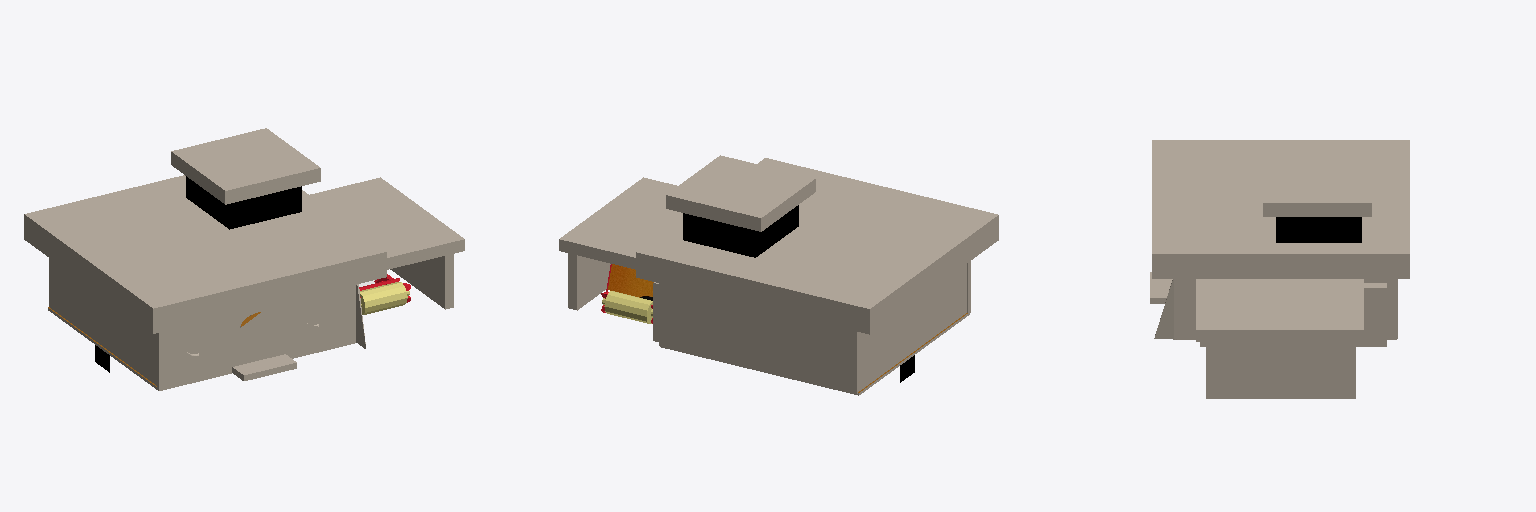
The picture shows the model from 3 angles: view 1: azimuth 30°, elevation 25°; view 2: azimuth 150°, elevation 25°; view 3: azimuth 270°, elevation 25°; orthographic projection.
Parts seen in each view (by area): view 1: Flower_Pot:Mesh1; view 2: Flower_Pot:Mesh1; view 3: Flower_Pot:Mesh1.
Boxes of the visible parts, x1=… form: Flower_Pot:Mesh1: x1=24, y1=128, x2=464, y2=390; Flower_Pot:Mesh1: x1=559, y1=155, x2=998, y2=395; Flower_Pot:Mesh1: x1=1150, y1=140, x2=1409, y2=398.
Bounding box in the file's own units: 55.62 × 25.72 × 37.52.
19 materials, 10 textured.